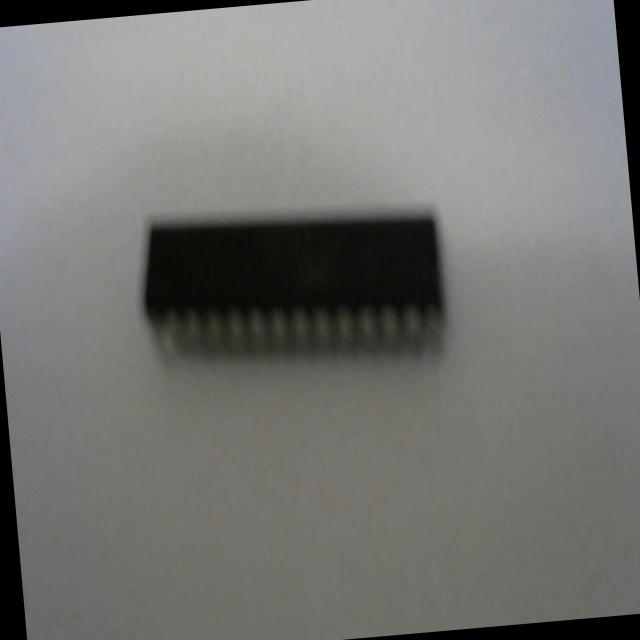atmega: (132, 190, 452, 386)
